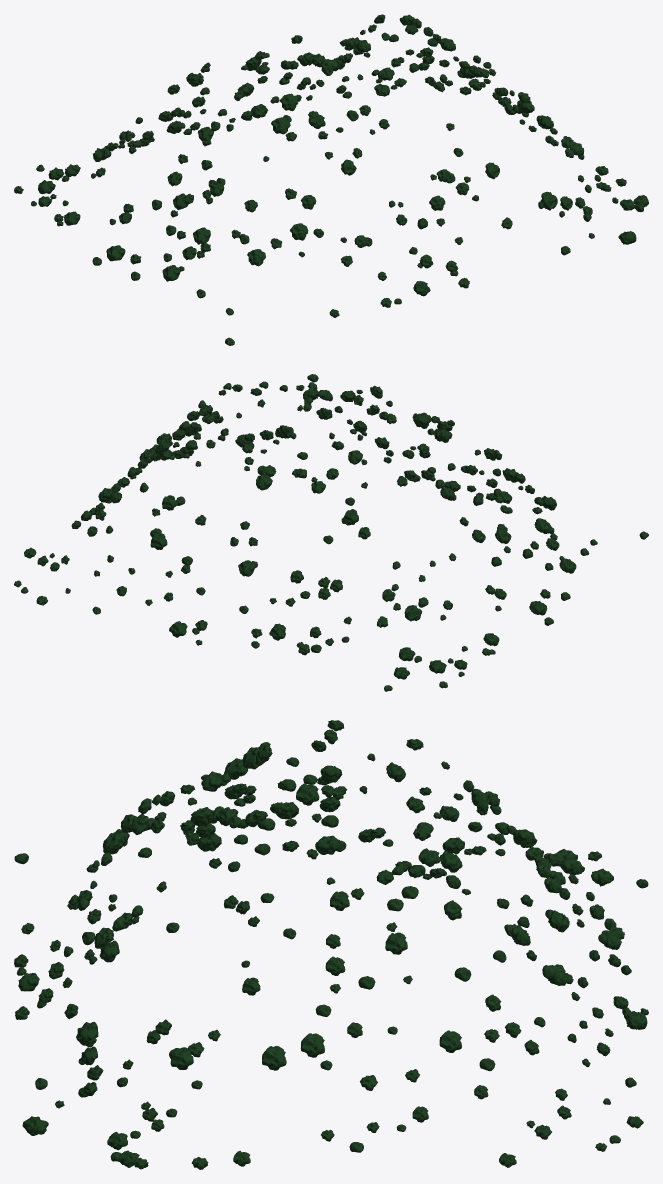
The model's file is Presente Arboles Montaña Templo.glb.
The picture shows the model from 3 angles, top to bottom: view 1: azimuth 30°, elevation 25°; view 2: azimuth 150°, elevation 25°; view 3: azimuth 270°, elevation 25°; orthographic projection. The views are drawn at different scales.
Bounding box in the file's own units: 160 × 58.49 × 132.
Materials: 1 (1 with a texture image).
